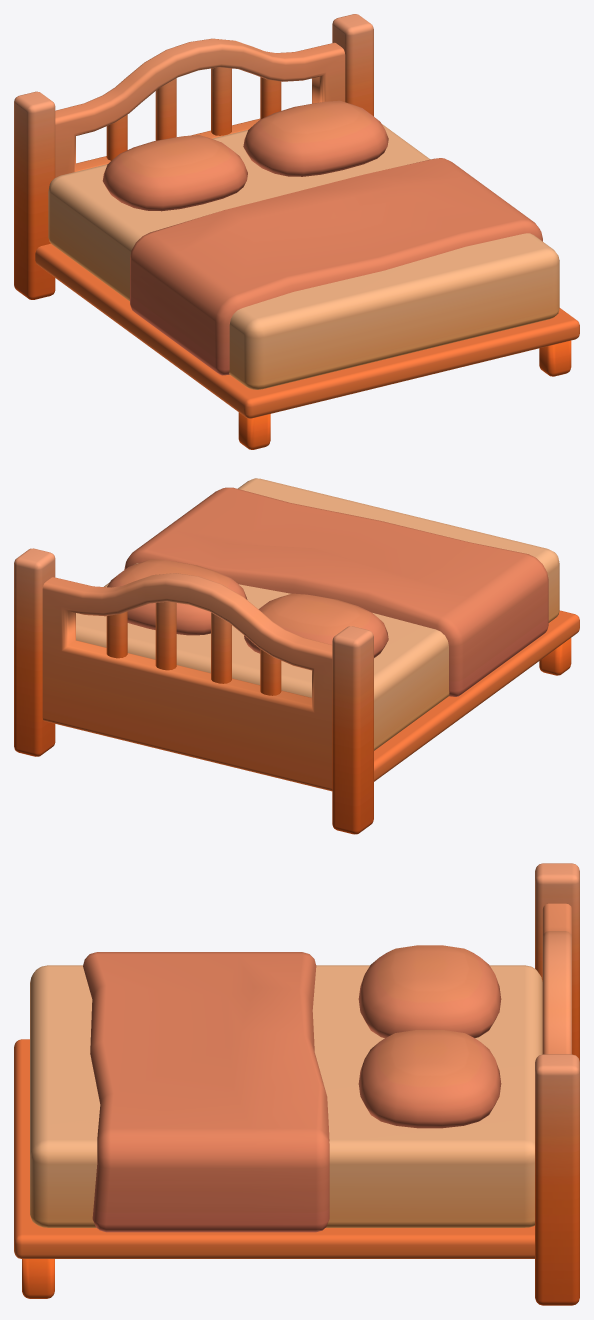
Rendered from Bed_06.glb.
The picture shows the model from 3 angles, top to bottom: view 1: azimuth 30°, elevation 25°; view 2: azimuth 150°, elevation 25°; view 3: azimuth 270°, elevation 25°; orthographic projection. The views are drawn at different scales.
Parts seen in each view (by area): view 1: Bed_06; view 2: Bed_06; view 3: Bed_06.
Part boxes in pixels (box(x1,y1,x2,y2)): Bed_06: box(14, 14, 579, 449); Bed_06: box(14, 478, 579, 834); Bed_06: box(14, 863, 579, 1305).
Size of the model in its own units: 1.86 by 1.08 by 2.14.
Materials: 1 (1 with a texture image).
